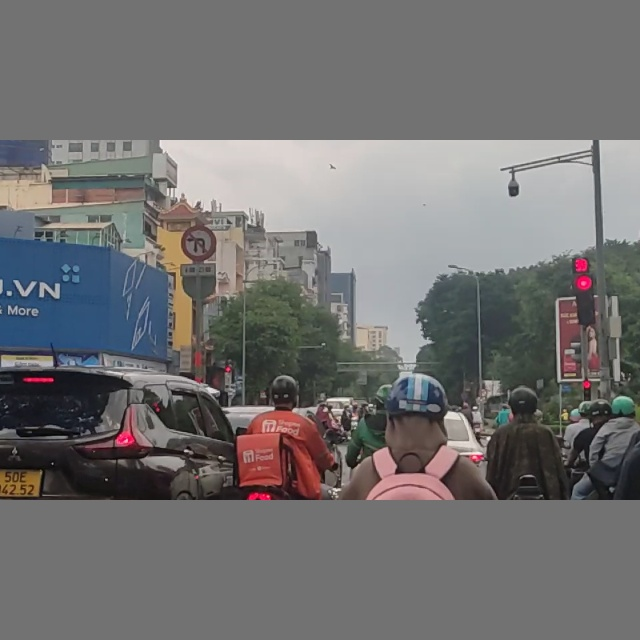P.124c: (182, 225, 217, 259)
